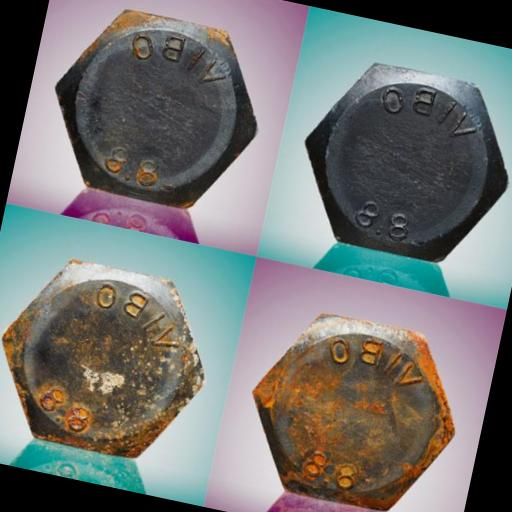segmentation: (2, 260, 204, 458), (253, 314, 454, 512)
